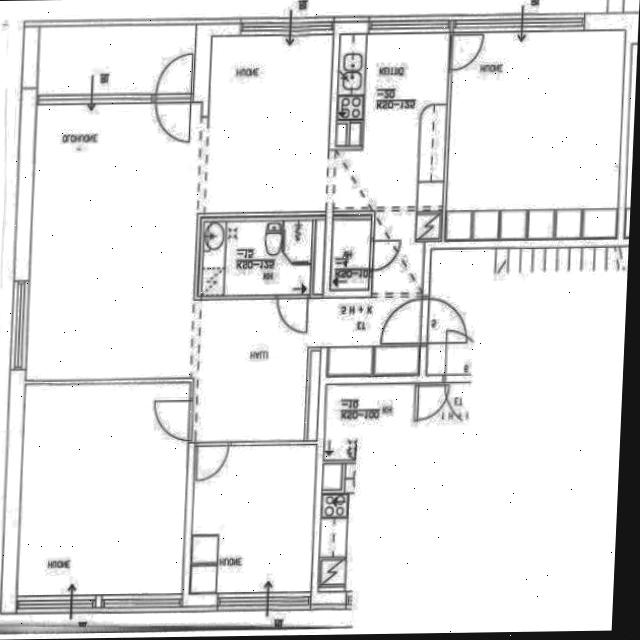room: (444, 22, 625, 248), (17, 376, 191, 601), (190, 440, 316, 597), (196, 214, 326, 295), (330, 212, 372, 291)
